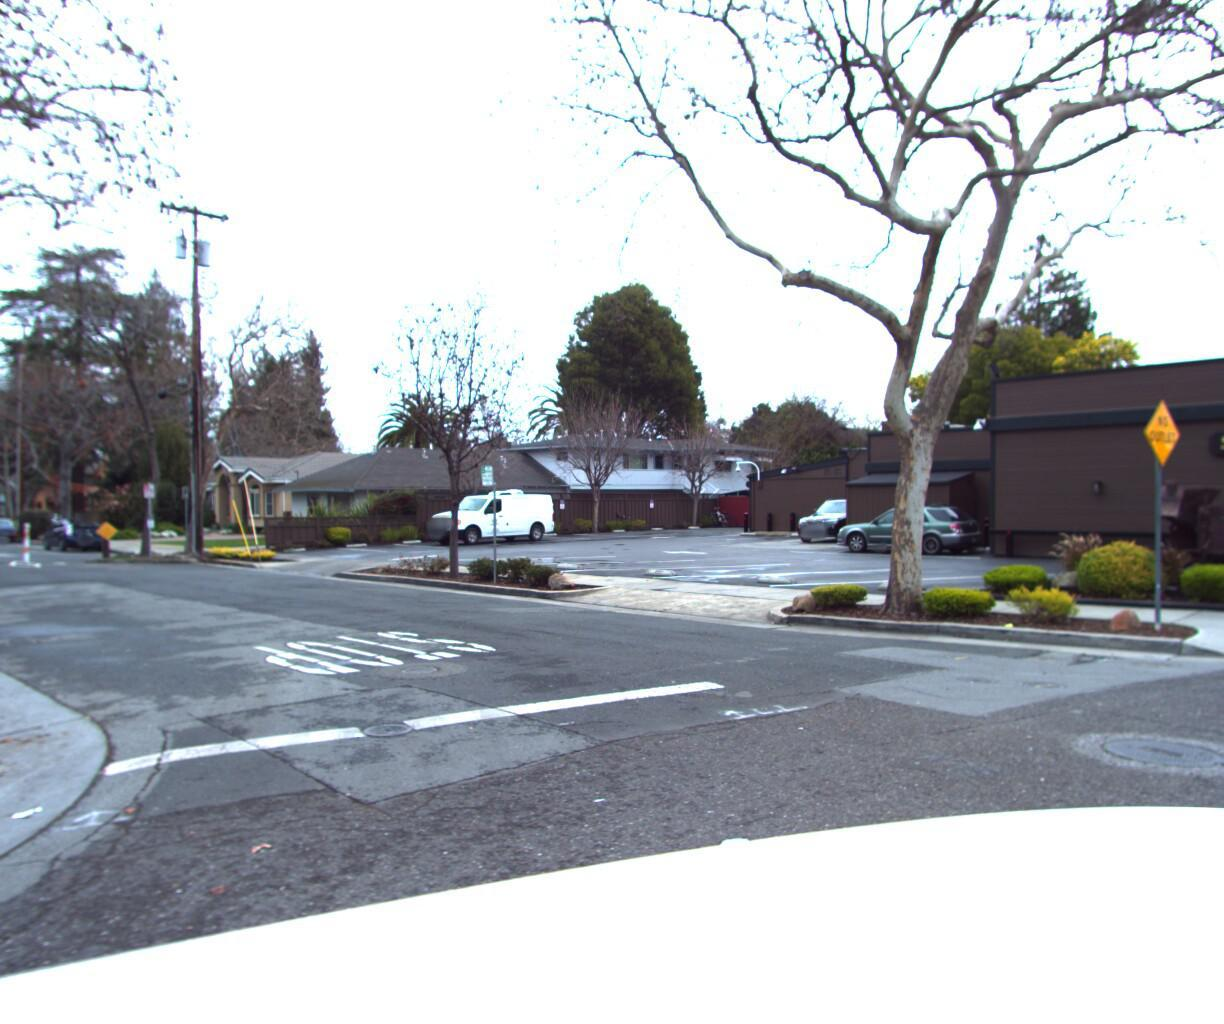car: (415, 485, 560, 547), (36, 515, 113, 557), (0, 515, 25, 545)
